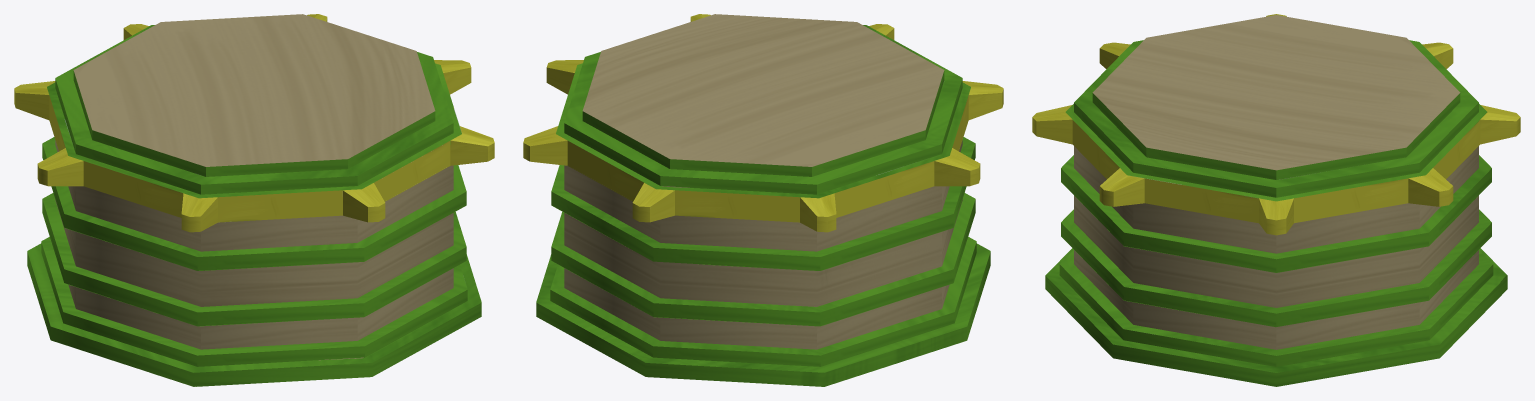
Rendered from darkness_tower_platform3.FBX.
3 renders of one model, left to right at view 1: azimuth 30°, elevation 25°; view 2: azimuth 150°, elevation 25°; view 3: azimuth 270°, elevation 25°, orthographic.
Parts seen in each view (by area): view 1: platform_bow3; view 2: platform_bow3; view 3: platform_bow3.
Boxes of the visible parts, x1=… form: platform_bow3: x1=14, y1=14, x2=494, y2=386; platform_bow3: x1=523, y1=14, x2=1003, y2=386; platform_bow3: x1=1032, y1=14, x2=1520, y2=386.
Bounding box in the file's own units: 9 × 4 × 9.
